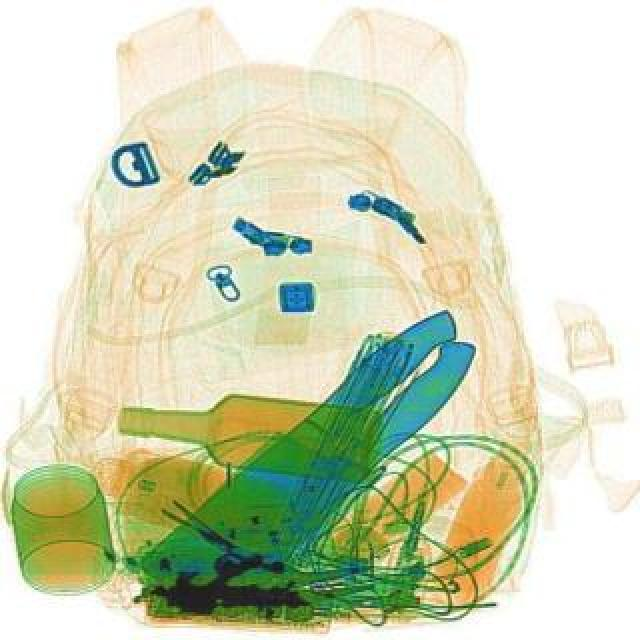knife: (138, 290, 506, 630), (132, 296, 500, 624)
